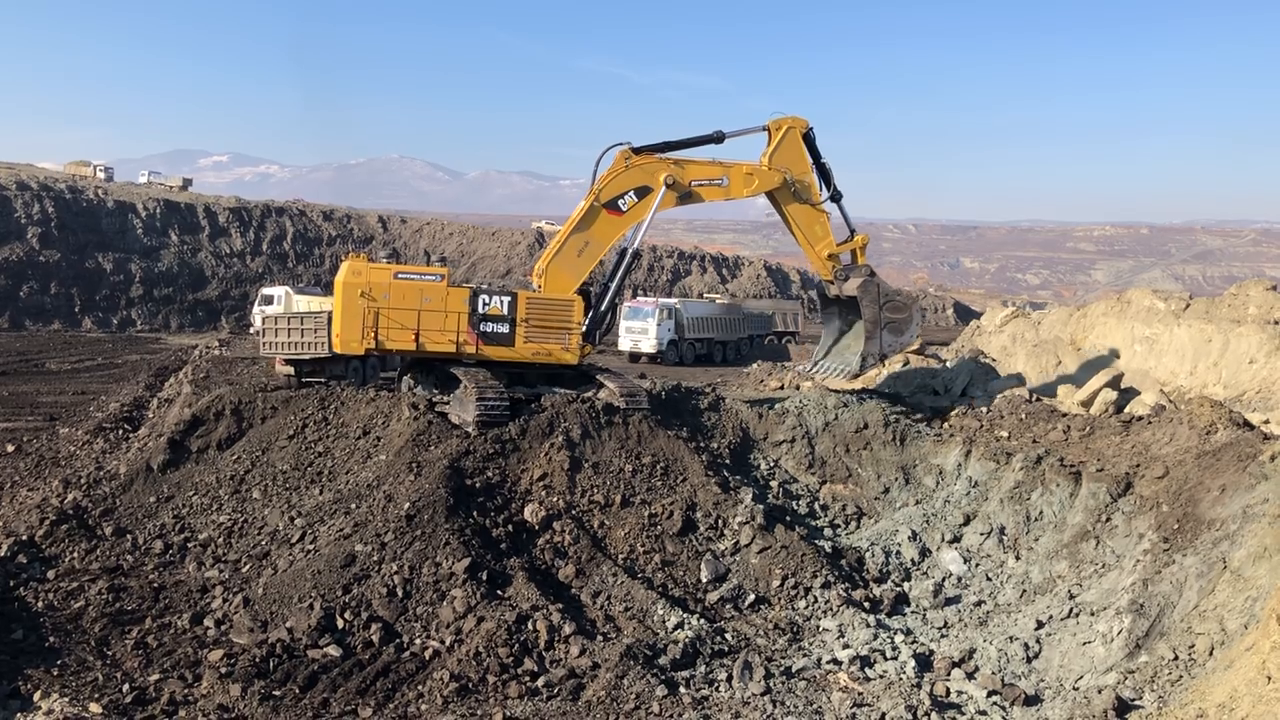empty: (803, 264, 927, 382)
